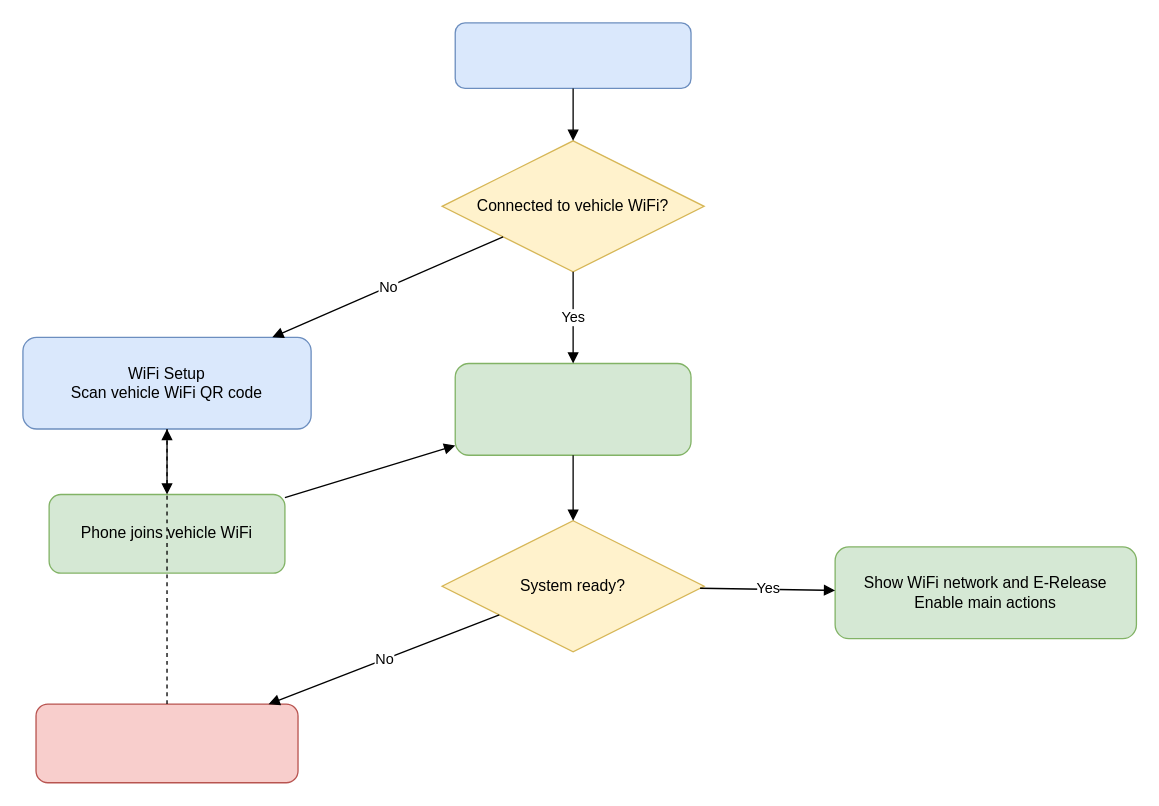
The diagram is 1159 pixels wide and 806 high, and some of its shapes have lost their labels. The shapes that lost their labels are listed below. From the top down, each one's centre as x and y in pixels, then its label:
At pixel 572 55: "Open TraceMate".
At pixel 572 408: "Home App checks readiness".
At pixel 166 743: "Show clear red connection error".
